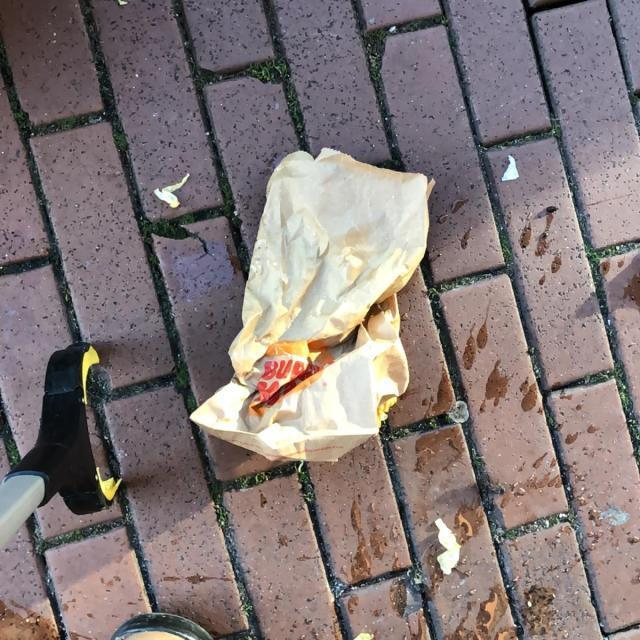Paper: (185, 142, 438, 468)
